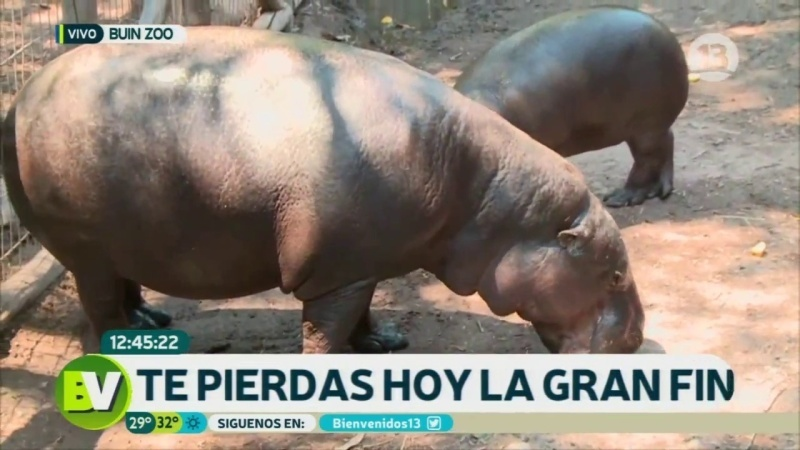hipopotamo: (1, 18, 692, 353), (447, 5, 704, 227)
